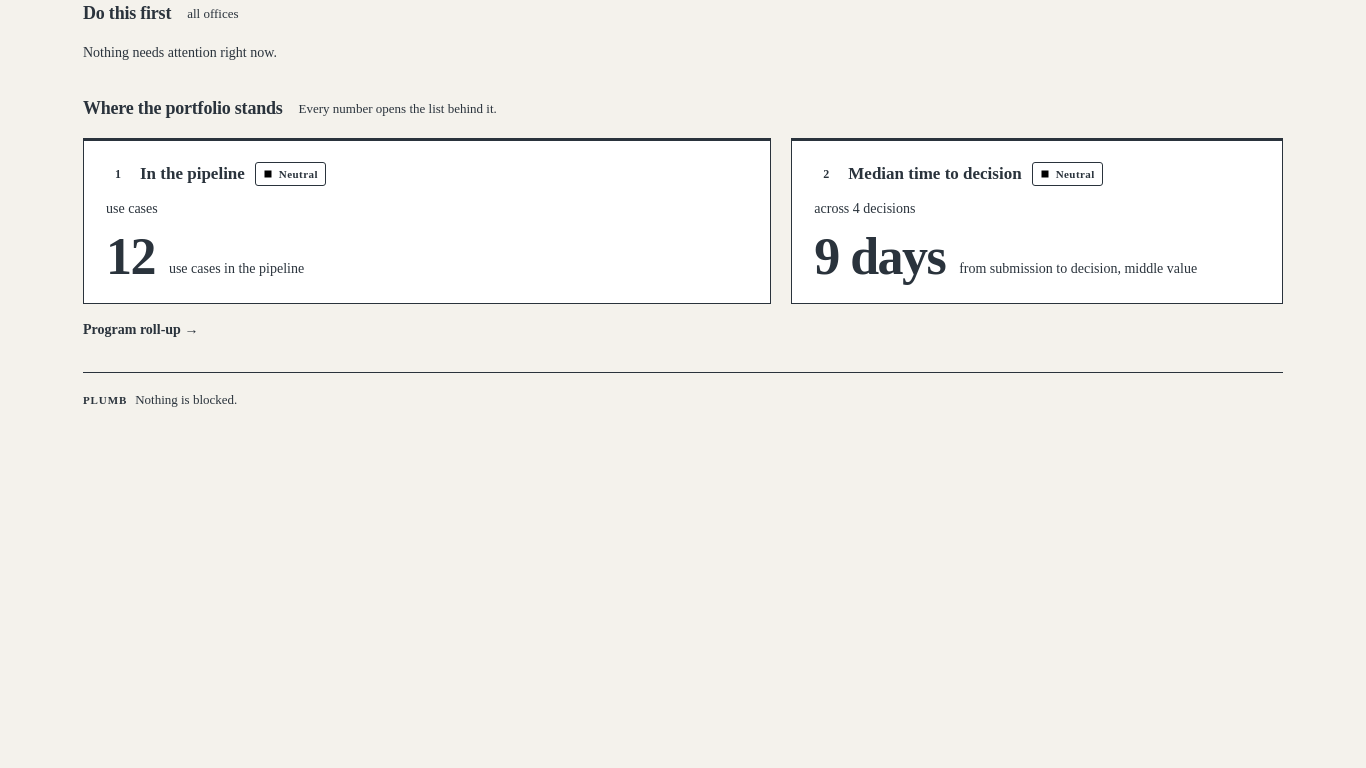
Test: CockpitHome (NL-3, #284) › keeps each KPI's number, label and drilldown, lead panel first, with no track (no goal exists)
Expected: the element that starts with "In the pipeline" is shown, [140,164,245,183]
Expected: the element that starts with "Median time to decision" shows "9 days", [814,230,945,282]
What coordinates should you click on to do the following:
click the button "12"
I would click on:
 (130, 256)
Its box is [106,230,155,282].
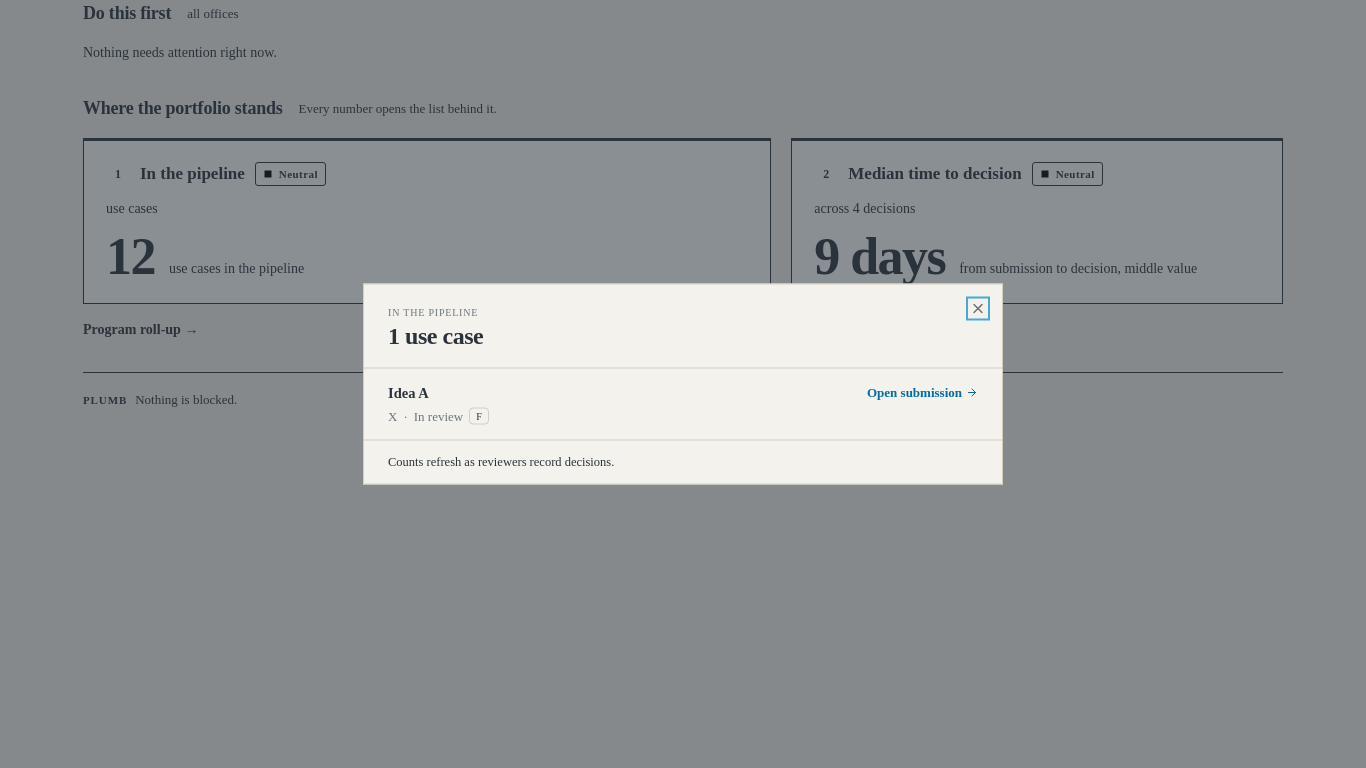
Expected: the dialog shows "Idea A", [388,384,429,400]
